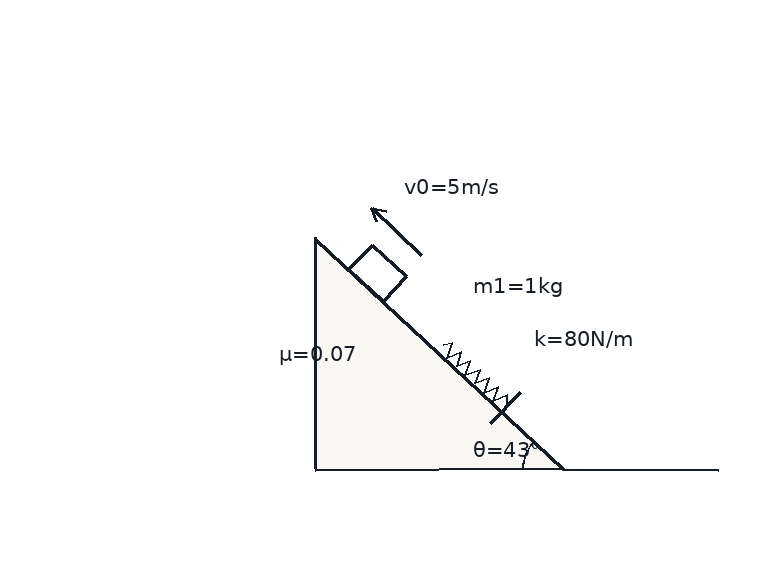block: (347, 242, 408, 303)
ramp: (313, 236, 565, 471)
spring: (441, 342, 509, 407)
